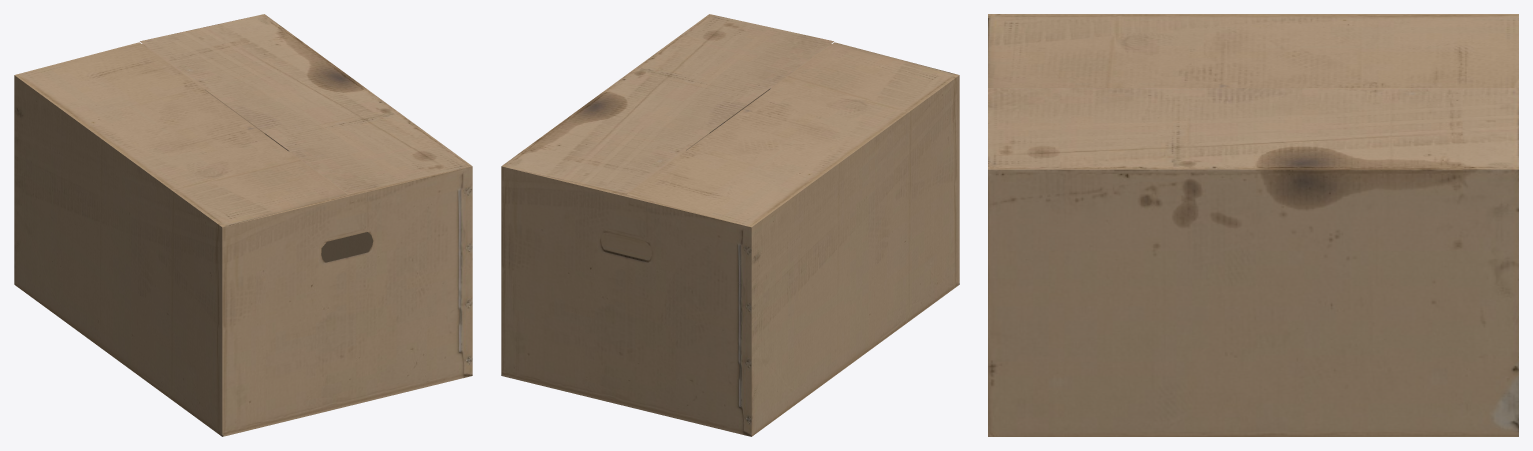
File: carton_box2.glb
3 renders of one model, left to right at view 1: azimuth 30°, elevation 25°; view 2: azimuth 150°, elevation 25°; view 3: azimuth 270°, elevation 25°, orthographic. The views are drawn at different scales.
Visible parts, largest first — view 1: Cube; view 2: Cube; view 3: Cube.
Part boxes in pixels (<box>): Cube: <box>14,14,472,436</box>; Cube: <box>501,14,959,436</box>; Cube: <box>988,14,1518,436</box>.
Bounding box in the file's own units: 0.42 × 0.3411 × 0.6048.
1 material, 1 textured.
